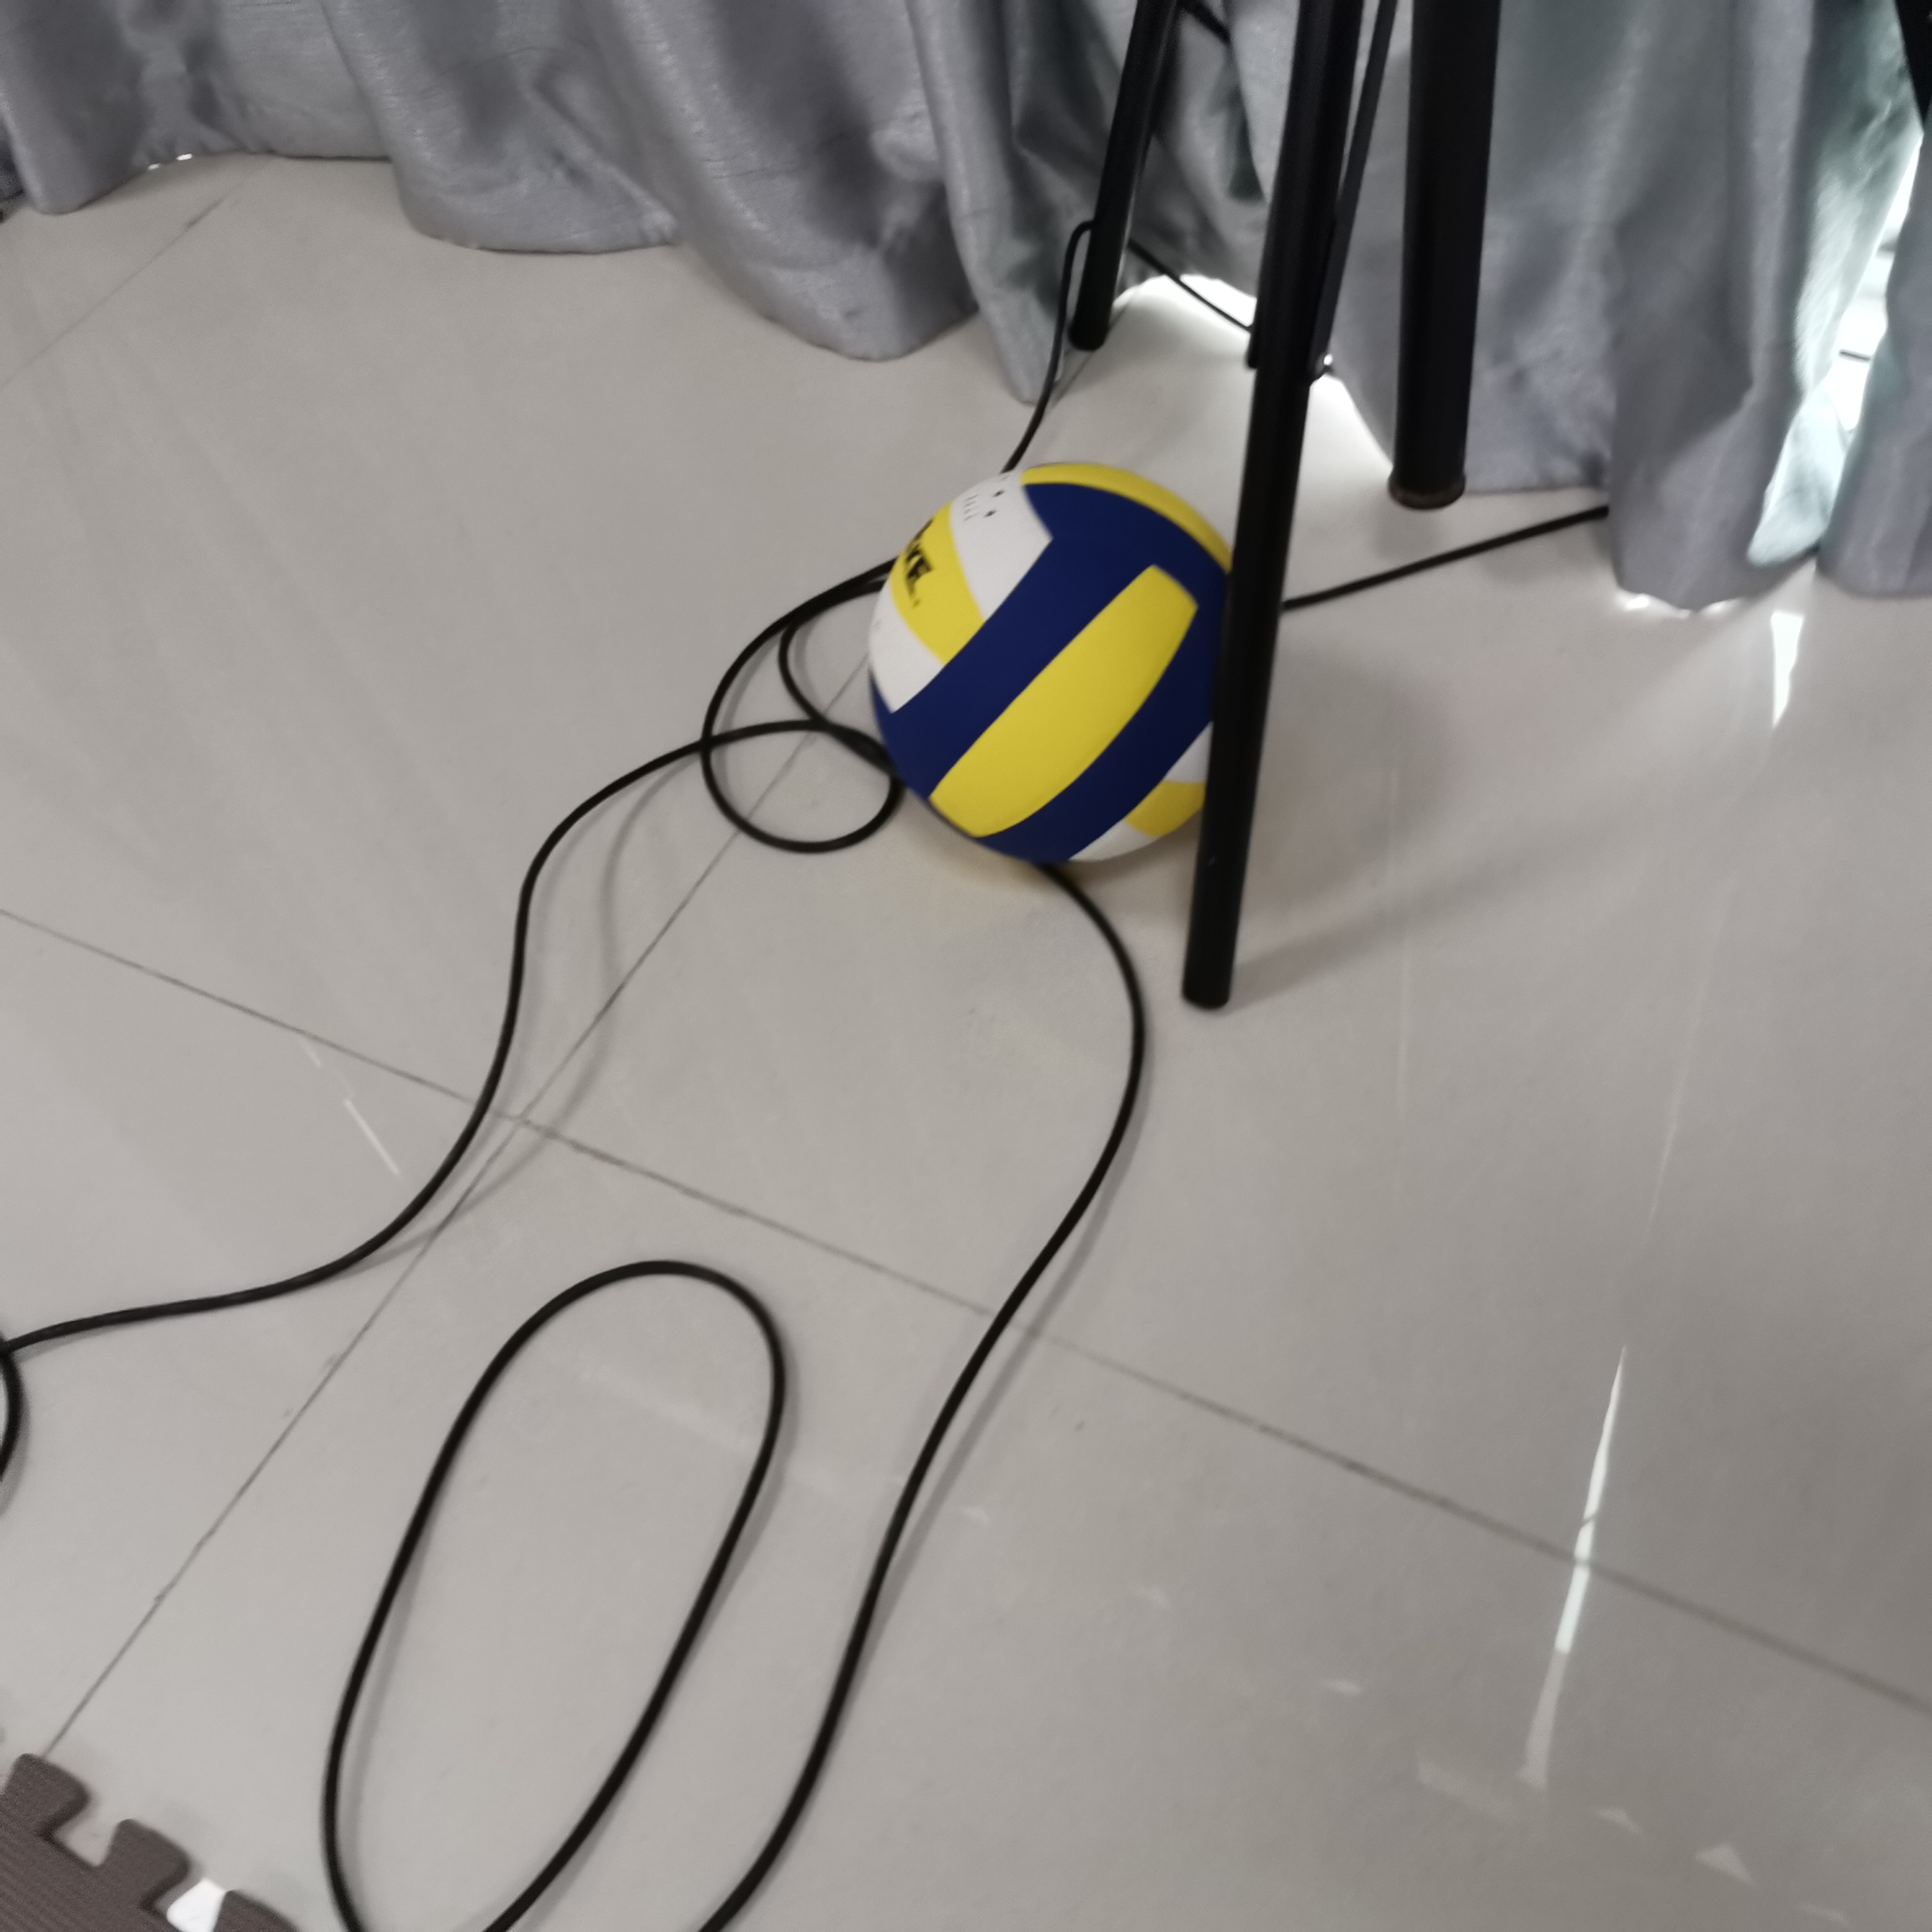volleyball: (874, 464, 1247, 874)
